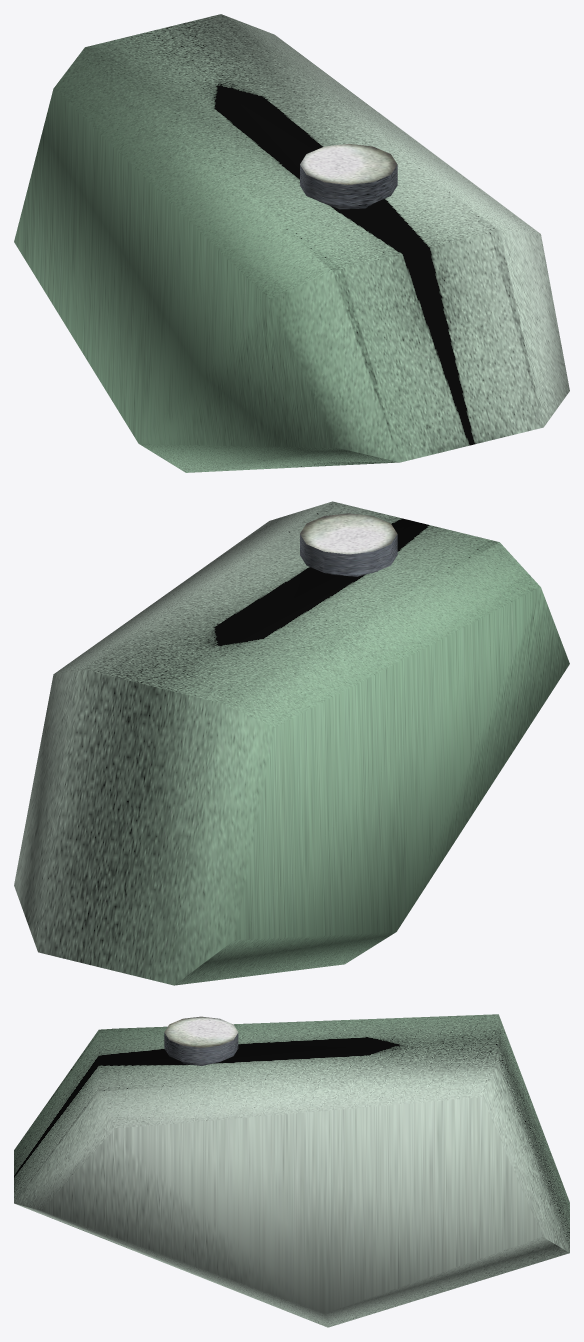
Rendered from Tank.fbx.
3 renders of one model, top to bottom at view 1: azimuth 30°, elevation 25°; view 2: azimuth 150°, elevation 25°; view 3: azimuth 270°, elevation 25°, orthographic. The views are drawn at different scales.
Visible parts, largest first — view 1: Tank; view 2: Tank; view 3: Tank.
Boxes of the visible parts, <box> form: Tank: <box>14,14,569,472</box>; Tank: <box>14,501,569,985</box>; Tank: <box>14,1014,569,1327</box>.
Bounding box in the file's own units: 23.82 × 29.34 × 55.57.
